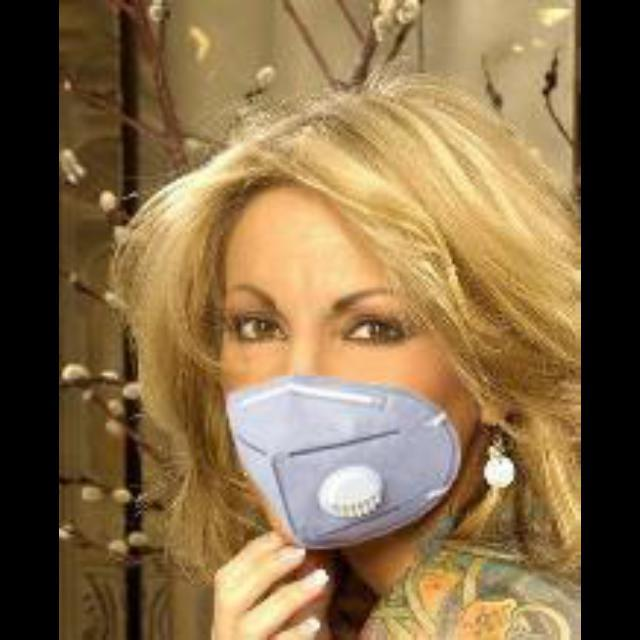suspicion: (190, 138, 518, 572)
